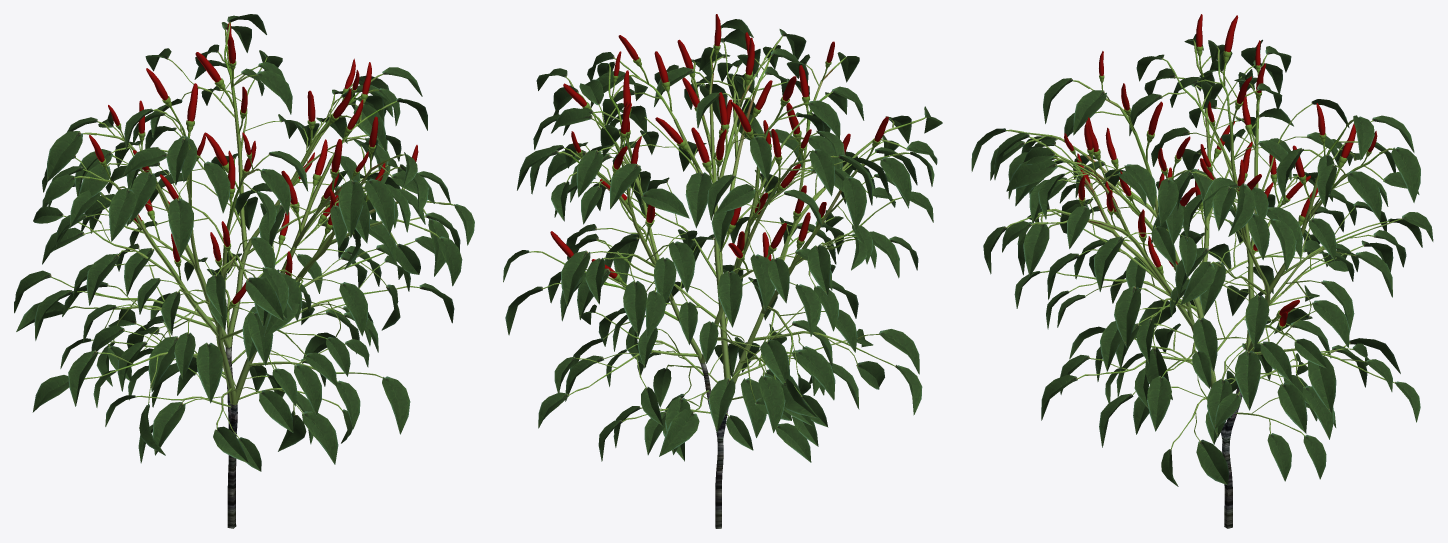
File: preview.glb
3 renders of one model, left to right at view 1: azimuth 30°, elevation 25°; view 2: azimuth 150°, elevation 25°; view 3: azimuth 270°, elevation 25°, orthographic.
Visible parts, largest first — view 1: Plant_Capsicum_annuum_A_Leaf_glb, Plant_Capsicum_annuum_A_Bark_glb, Plant_Capsicum_annuum_A_Fruit_glb, Plant_Capsicum_annuum_A_Bark2_glb; view 2: Plant_Capsicum_annuum_A_Leaf_glb, Plant_Capsicum_annuum_A_Bark_glb, Plant_Capsicum_annuum_A_Fruit_glb, Plant_Capsicum_annuum_A_Bark2_glb; view 3: Plant_Capsicum_annuum_A_Leaf_glb, Plant_Capsicum_annuum_A_Bark_glb, Plant_Capsicum_annuum_A_Fruit_glb, Plant_Capsicum_annuum_A_Bark2_glb.
Part boxes in pixels (x1,y1,x2,y2): Plant_Capsicum_annuum_A_Leaf_glb: (14, 14, 474, 471); Plant_Capsicum_annuum_A_Bark_glb: (51, 21, 454, 439); Plant_Capsicum_annuum_A_Fruit_glb: (89, 22, 418, 304); Plant_Capsicum_annuum_A_Bark2_glb: (225, 347, 237, 528); Plant_Capsicum_annuum_A_Leaf_glb: (503, 19, 942, 462); Plant_Capsicum_annuum_A_Bark_glb: (529, 27, 926, 426); Plant_Capsicum_annuum_A_Fruit_glb: (550, 14, 888, 278); Plant_Capsicum_annuum_A_Bark2_glb: (700, 362, 728, 528); Plant_Capsicum_annuum_A_Leaf_glb: (971, 34, 1433, 486); Plant_Capsicum_annuum_A_Bark_glb: (1006, 39, 1401, 450); Plant_Capsicum_annuum_A_Fruit_glb: (1064, 14, 1377, 326); Plant_Capsicum_annuum_A_Bark2_glb: (1220, 386, 1242, 528).
Bounding box in the file's own units: 0.9018 × 1.06 × 0.9363.
Materials: 4 (3 with a texture image).
